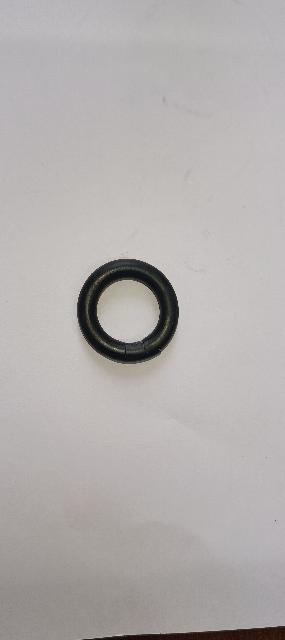scratch: (137, 338, 153, 360), (122, 342, 130, 366), (156, 343, 166, 355)
